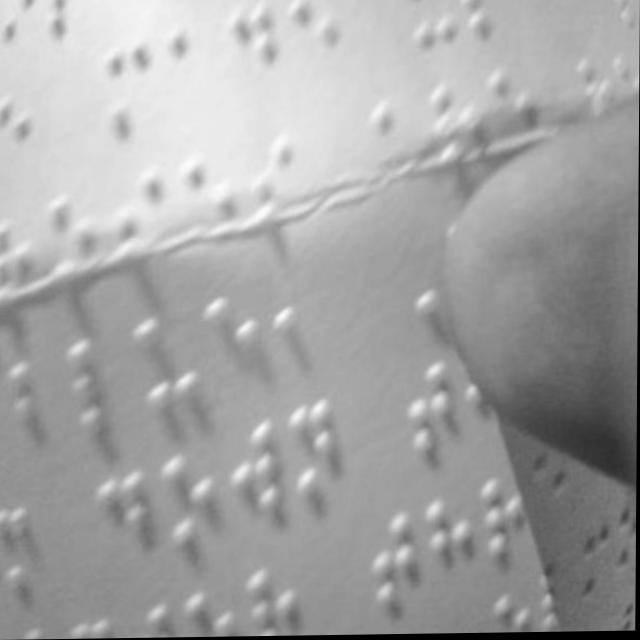braiile: (11, 355, 86, 471), (134, 305, 207, 407), (68, 325, 141, 426), (228, 408, 287, 528), (90, 469, 151, 580), (206, 284, 269, 391), (366, 510, 425, 624), (161, 446, 221, 553), (286, 390, 342, 501), (400, 362, 461, 461), (426, 491, 481, 600), (226, 0, 284, 102), (168, 15, 222, 122), (276, 278, 332, 375), (102, 31, 153, 135), (0, 498, 46, 599), (247, 561, 304, 637)
